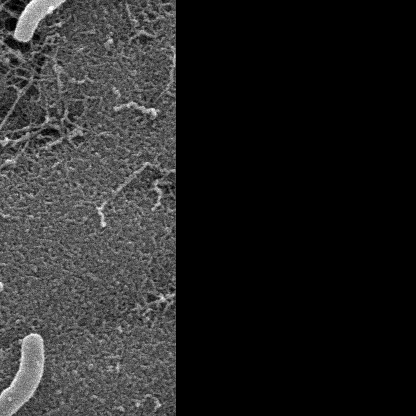curved: (0, 333, 46, 416)
filament: (12, 0, 151, 39)
